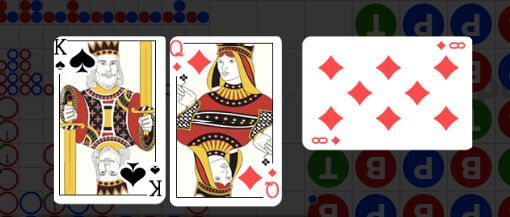6D: (435, 41, 467, 53)
8D: (311, 135, 343, 147)
QD: (182, 36, 226, 83), (249, 157, 293, 203)
